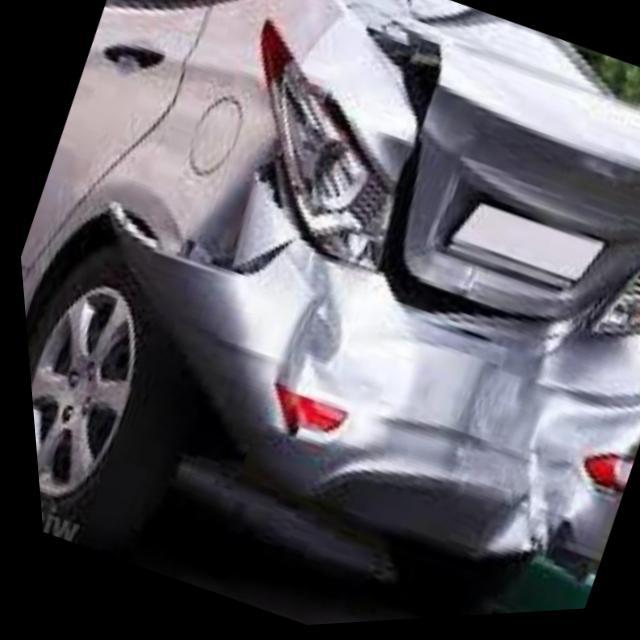dislocated part: (98, 5, 640, 566)
